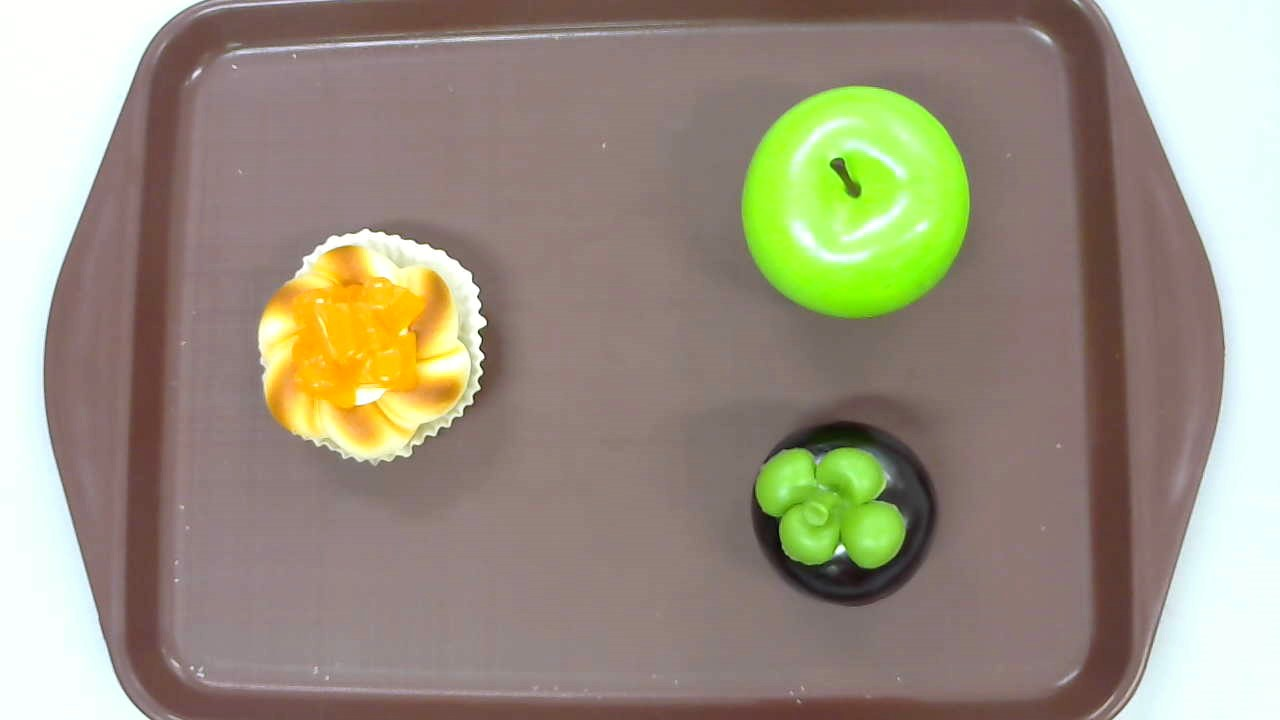green apple: (741, 86, 969, 321)
mango tart: (258, 228, 487, 470)
mangosteen: (748, 417, 939, 604)
